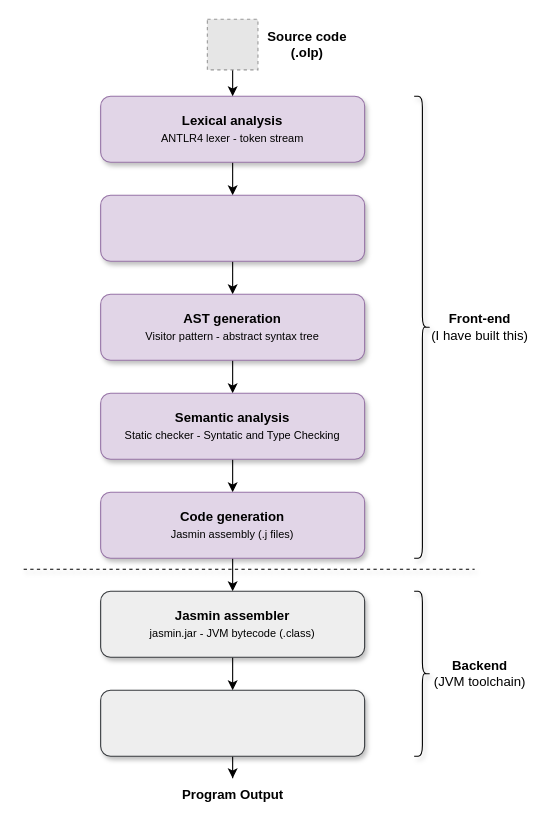
Image size: 554x831. Some labels were removed from this diagram. Grey dashed boxes stand in for pictures. Here are the shapes that lost their labels. From the top down, the centre of each, then its label:
At (233,229): "Syntax analysis ANTLR4 parser - parsed tree".
At (233,724): "JVM execution java - runtime output".
